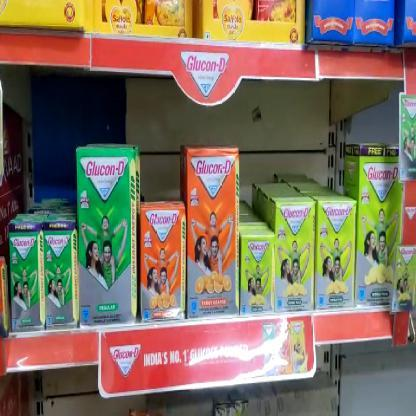Glucon D Nimbu Pani 1-KG: (356, 149, 402, 310), (316, 201, 356, 311), (274, 202, 314, 310)
Glucon D Regular 1-KG: (78, 151, 134, 325)
Glucon D Tangy orange 1-KG: (187, 150, 239, 314), (140, 208, 184, 317)
